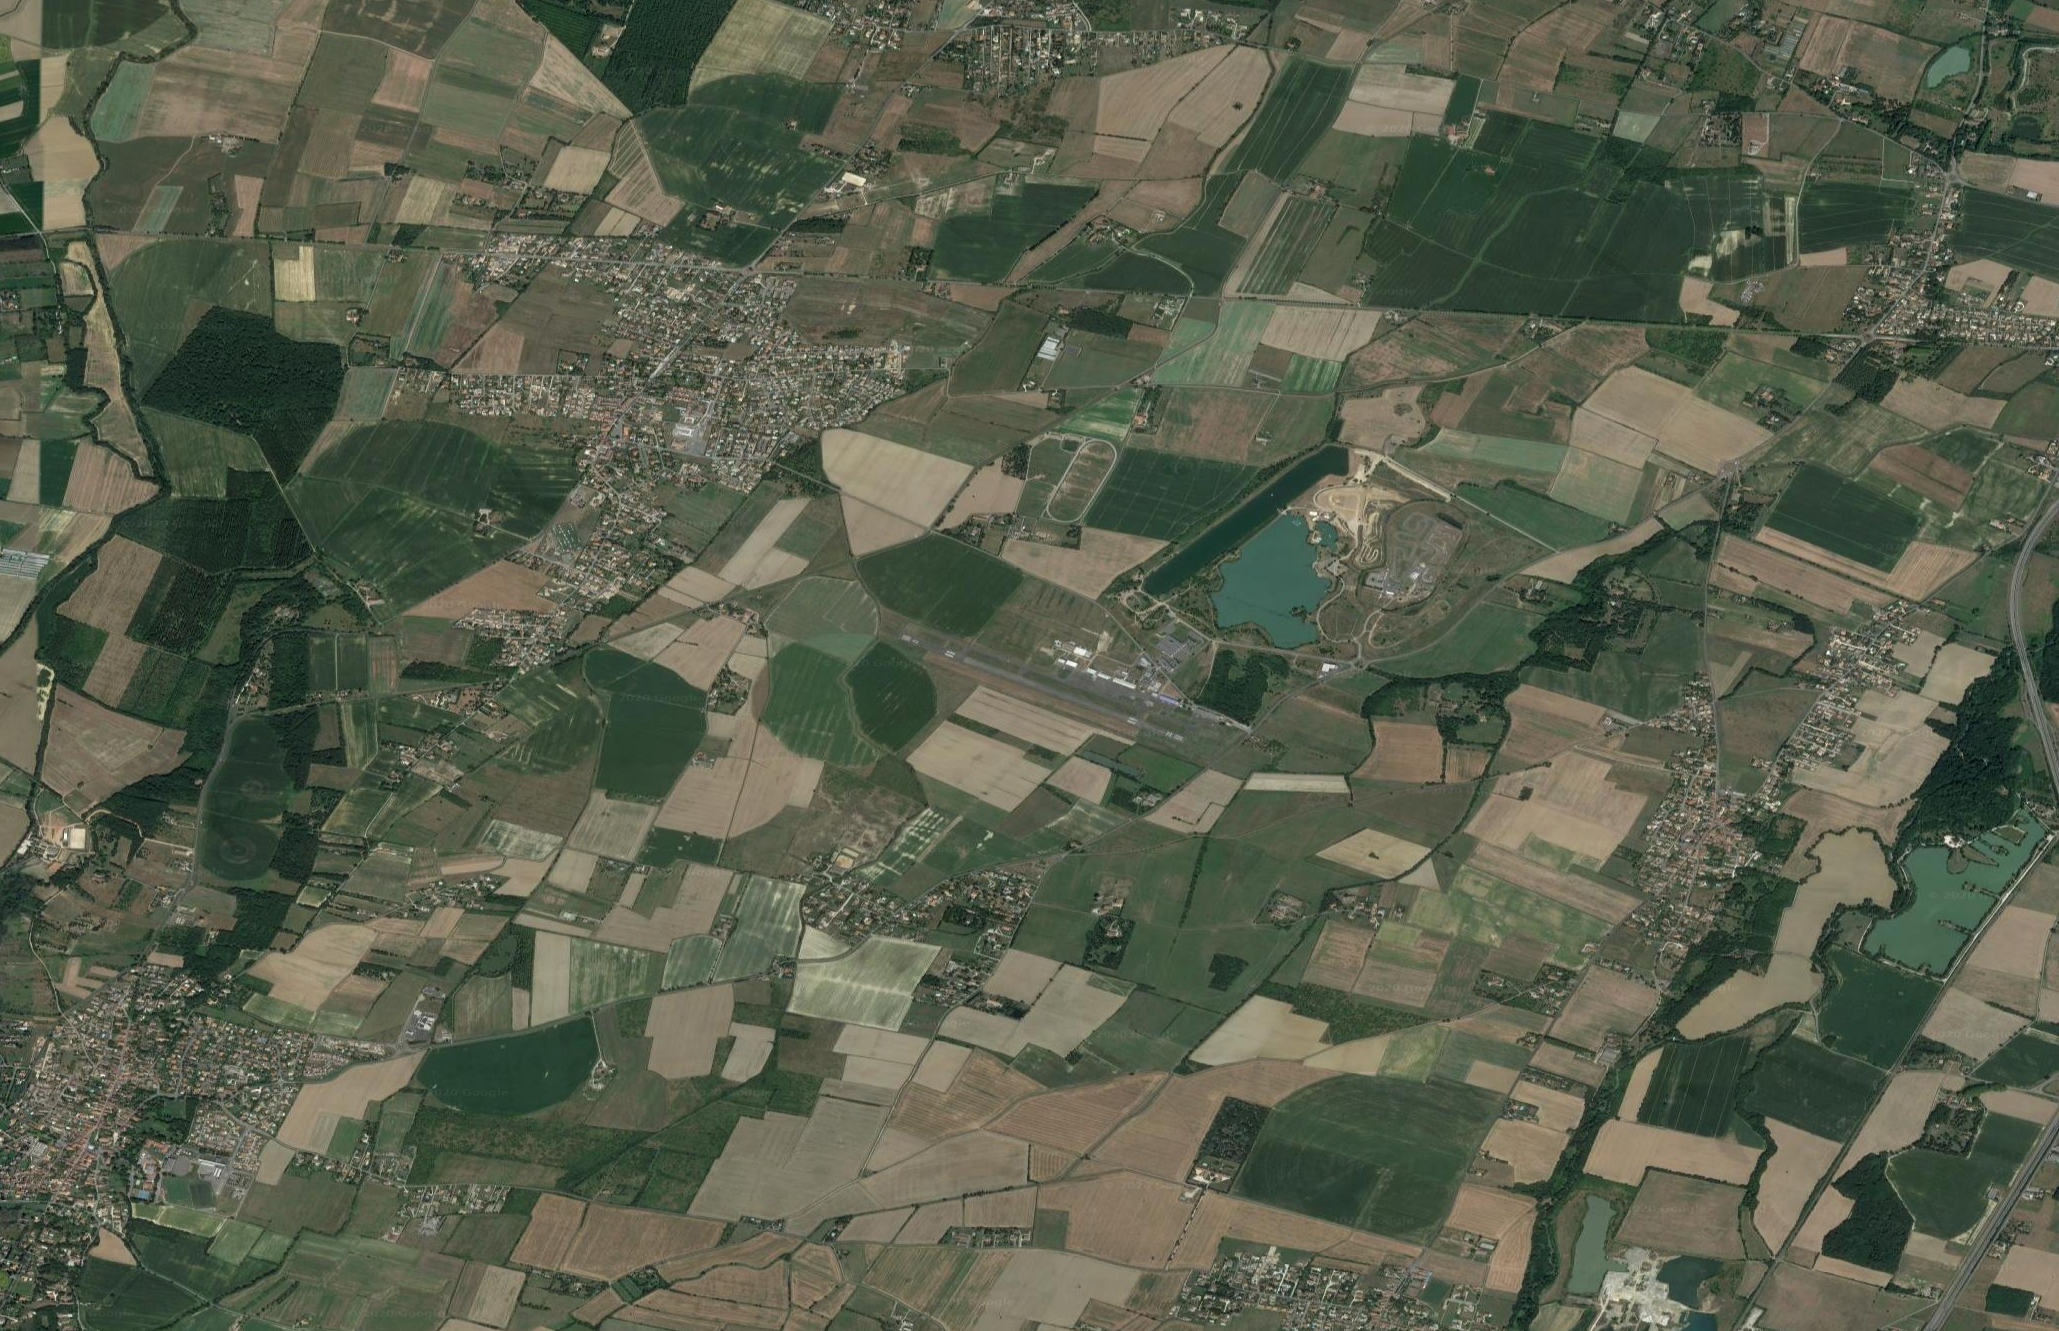airport: (894, 620, 1204, 744)
motorway: (1924, 1113, 2059, 1329), (2008, 623, 2059, 792), (2008, 504, 2059, 627)
